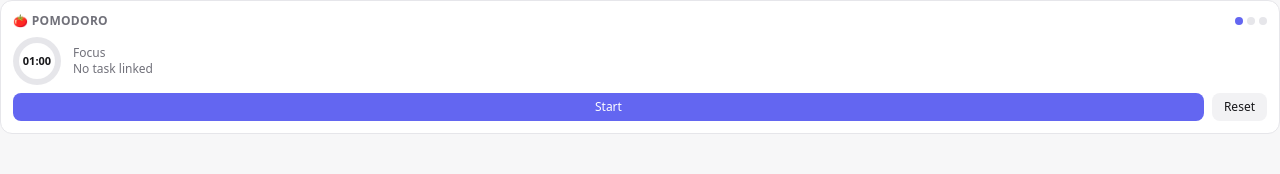
Scenario: PomodoroWidget › logs a session and advances to a break when focus completes
The image size is (1280, 174).
Click the button "Start": [608, 107] box [13, 93, 1204, 121]
Wait 61000 ms
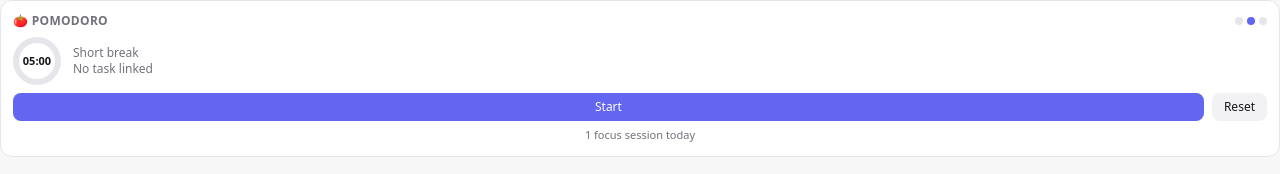
Expected: the text "Short break" is shown, [73, 44, 139, 61]
Expected: the text "1 focus session today" is shown, [585, 127, 695, 142]
